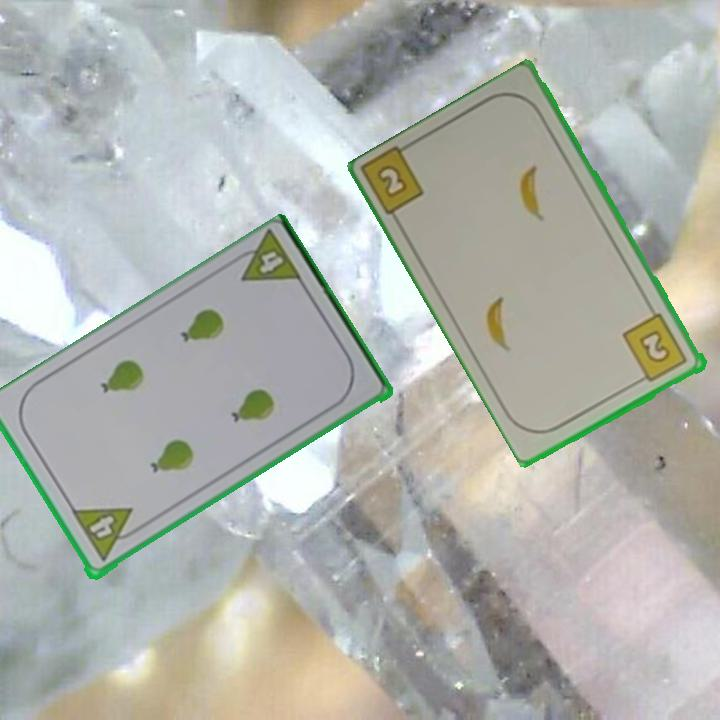2b: (619, 310, 691, 387), (373, 161, 411, 202)
4p: (226, 228, 306, 287), (69, 504, 145, 565)
